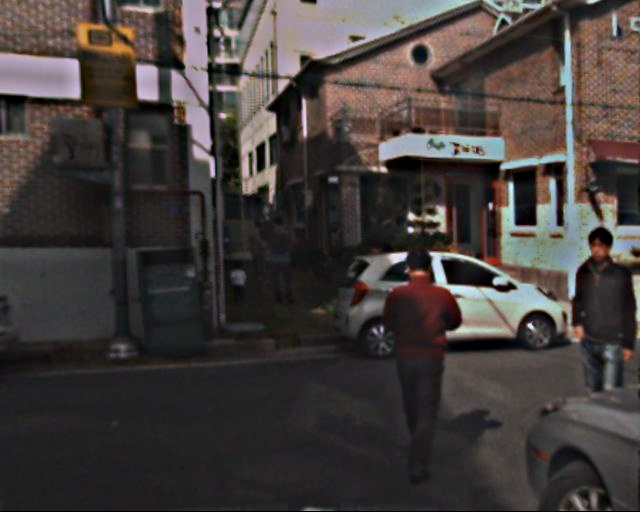person: (546, 226, 640, 472), (368, 249, 464, 483), (261, 213, 300, 307), (247, 222, 270, 277), (228, 257, 249, 308)
